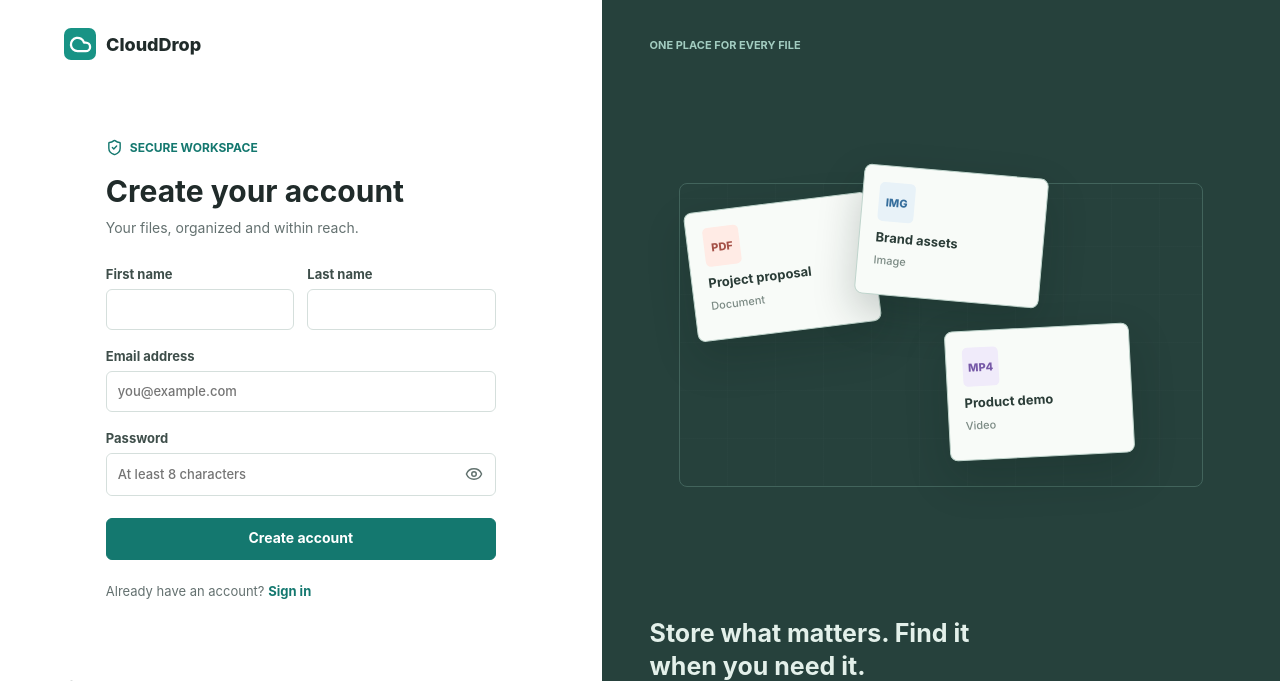
Test: sign-in and registration errors › explains that an email is already registered
In the field labelled "First name": {"x": 200, "y": 309} 106,289 -> 294,330, type "Ada"
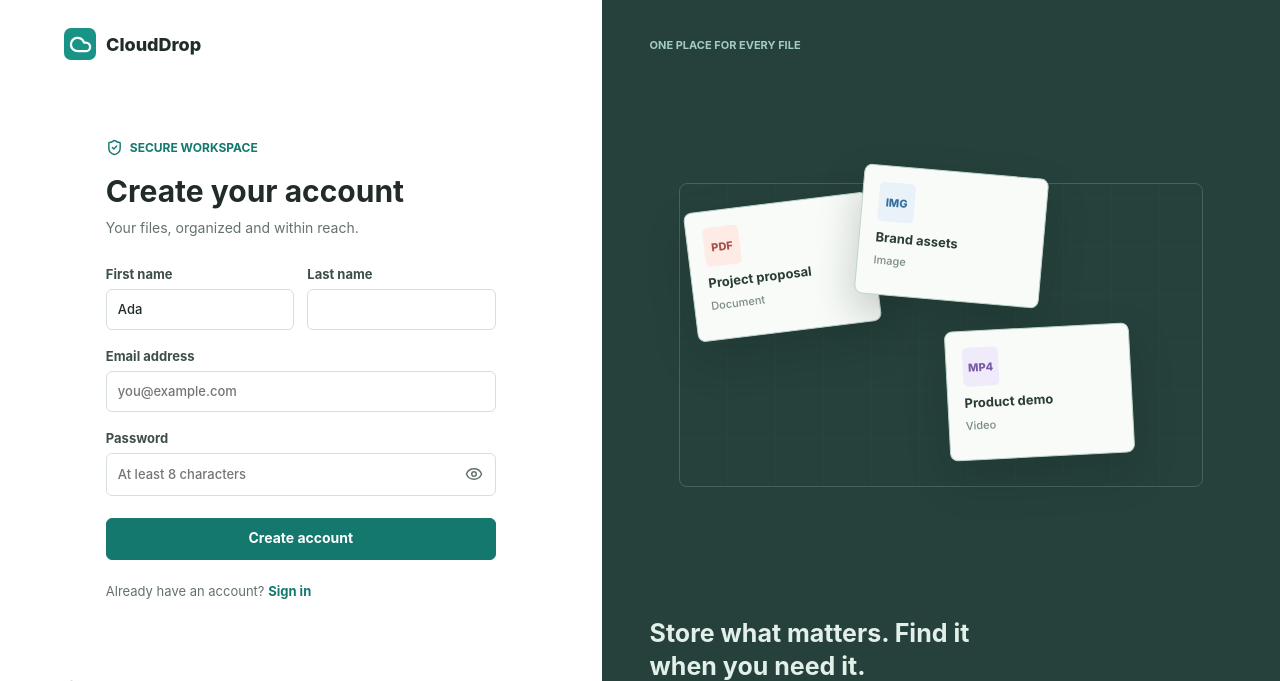
In the field labelled "Last name": {"x": 402, "y": 309} 307,289 -> 496,330, type "Lovelace"
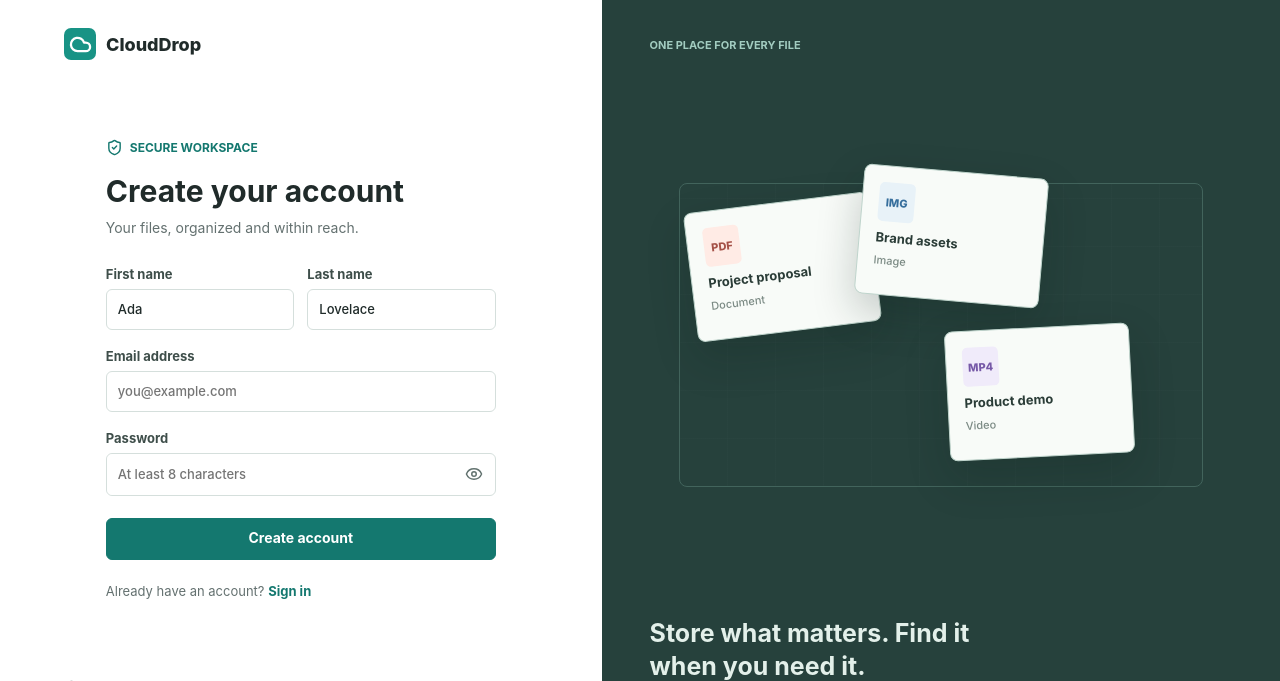
In the field labelled "Email address": {"x": 301, "y": 391} 106,371 -> 496,412, type "ada@example.com"
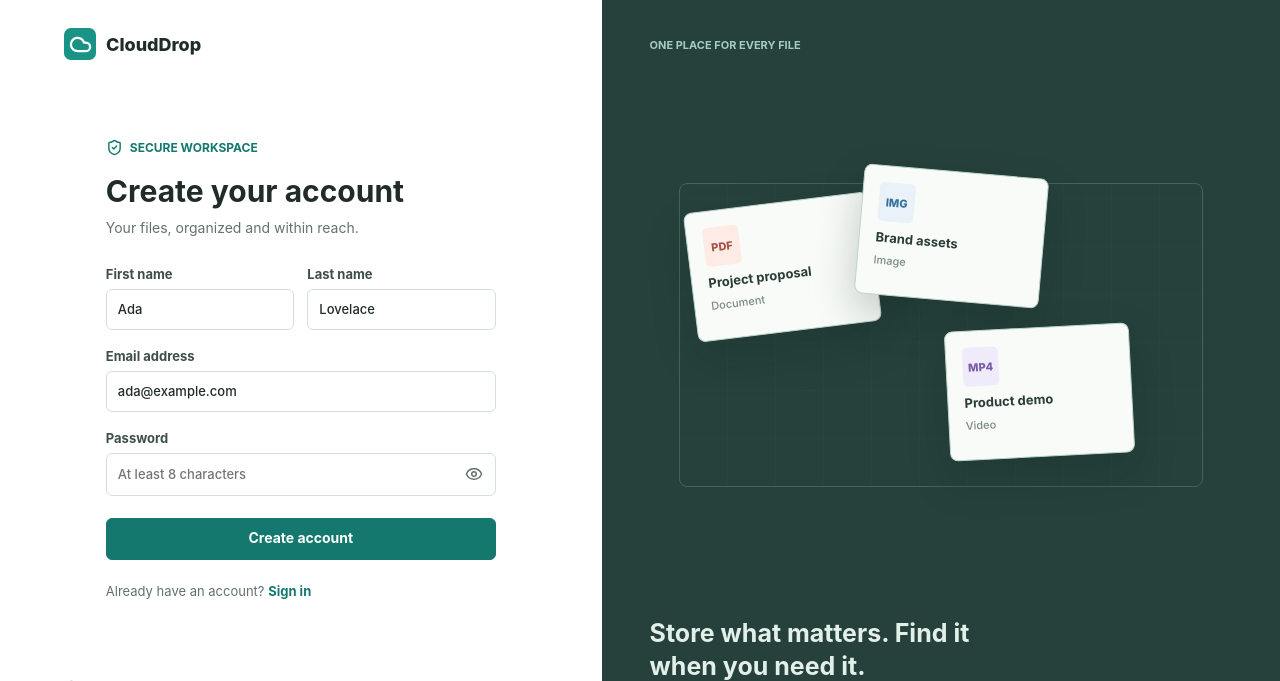
In the password field labelled "Password": {"x": 282, "y": 474} 107,454 -> 457,495, type "securepass123"
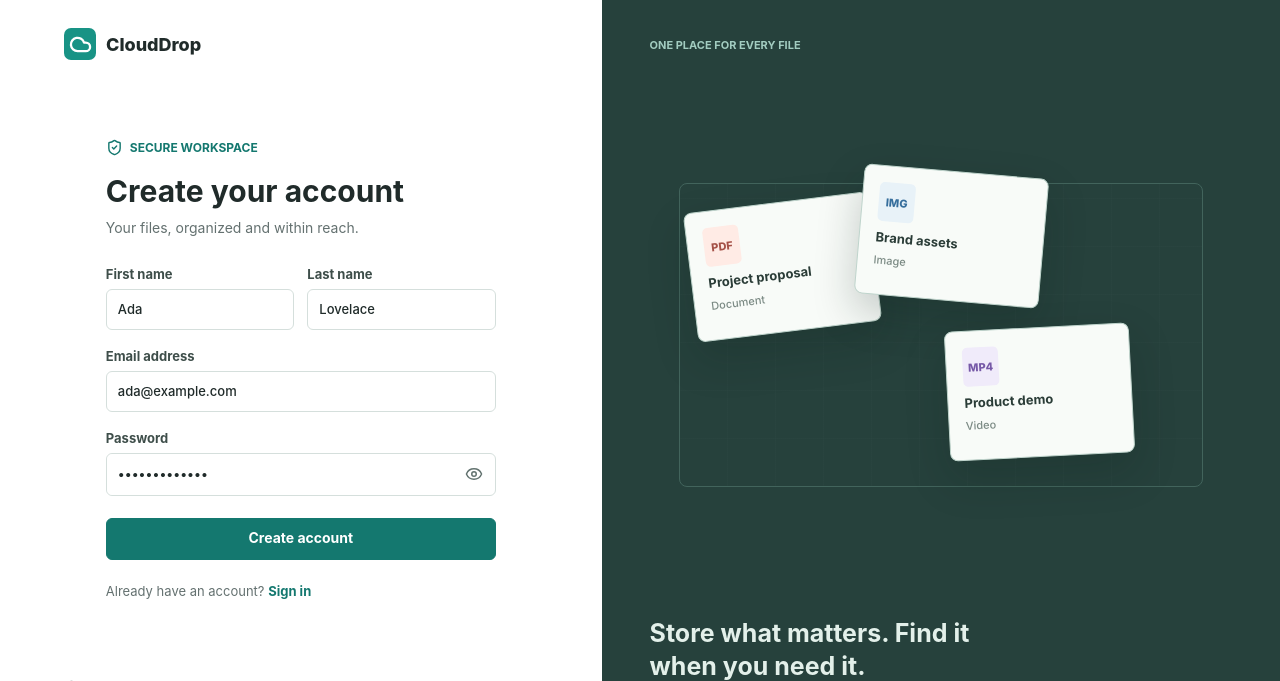
Click the button "Create account": {"x": 301, "y": 539} 106,518 -> 496,560
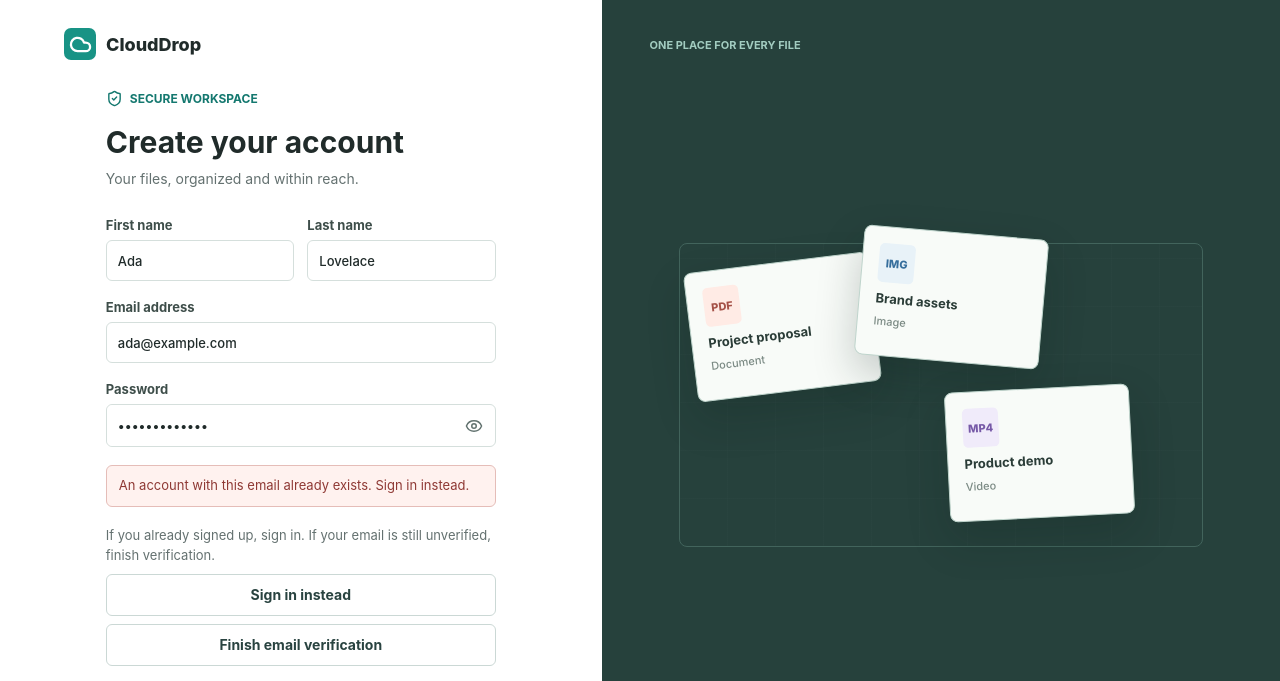
Expected: the message reads "An account with this email already exists. Sign in instead.", 119,477 -> 469,493
